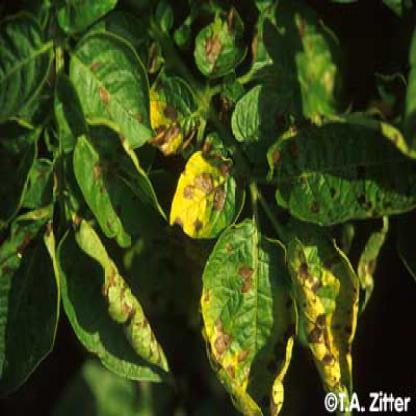potato leaf early blight: (66, 206, 177, 385), (202, 218, 293, 414), (285, 227, 370, 414), (68, 122, 175, 254), (61, 28, 159, 156), (166, 146, 249, 240), (145, 72, 203, 153), (194, 12, 252, 81)
